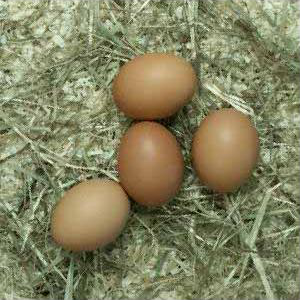egg: (50, 178, 130, 253), (192, 108, 260, 194), (118, 121, 184, 208), (113, 54, 198, 119)
